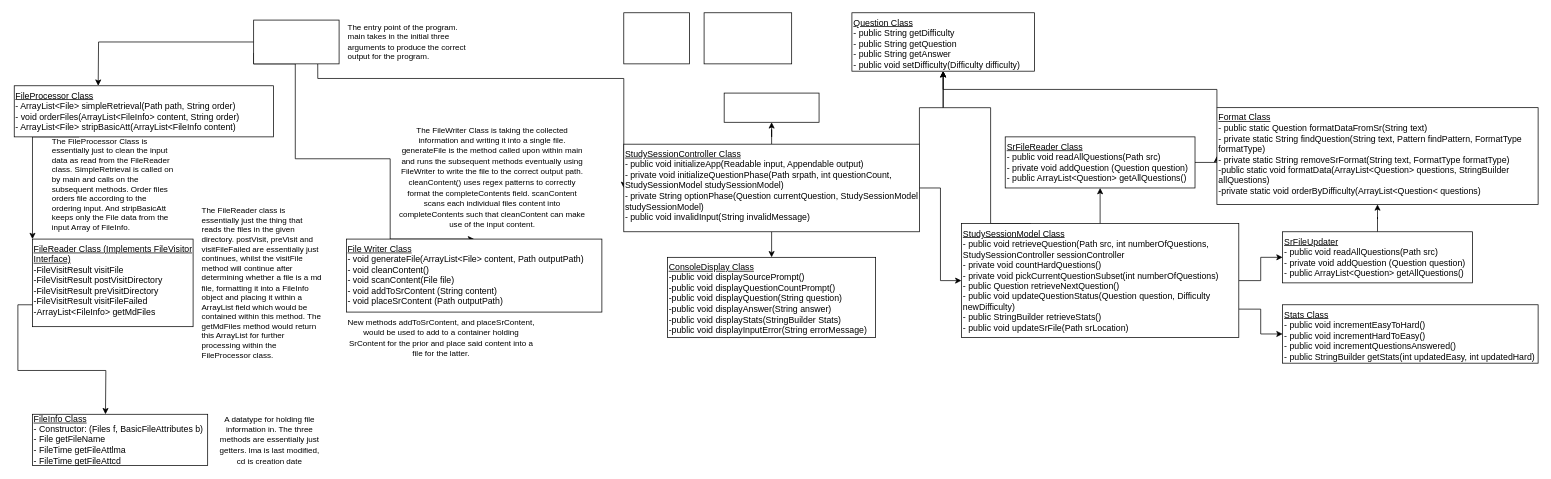
This 1551x479 diagram has some shape labels left out. Each missing label, with the centre of its shape:
ConsoleReader Class - public String read(): point 771,107
Difficulty Enum HARD, EASY: point 656,38
Driver Class -public static void main(String[] args): point 296,41
FormatType Enum QUESTION, ANSWER DIFFICULTY: point 747,38
